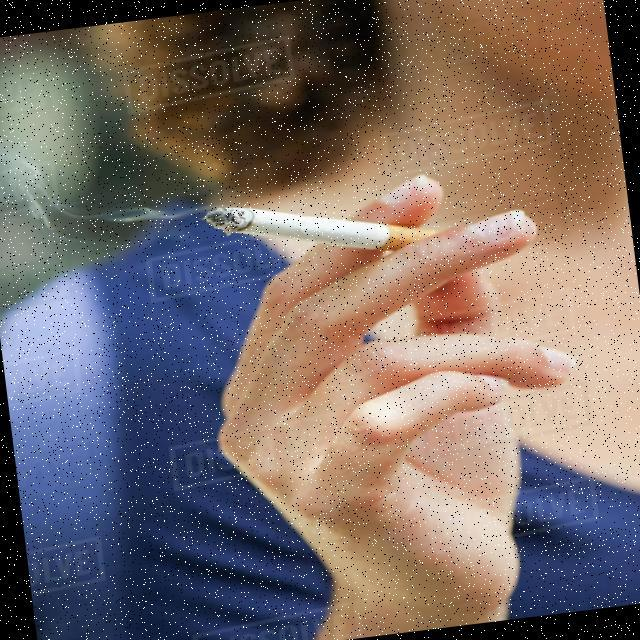cigarette: (202, 176, 400, 278)
